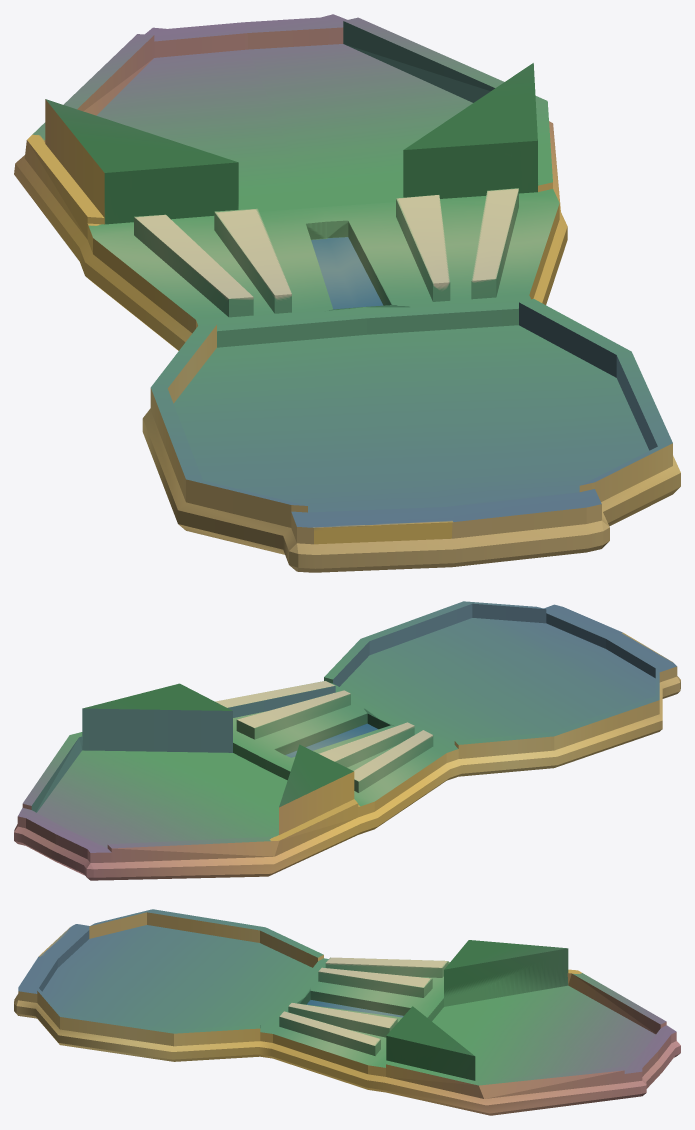
File: SM_PLATEFORM.FBX
3 renders of one model, top to bottom at view 1: azimuth 30°, elevation 25°; view 2: azimuth 150°, elevation 25°; view 3: azimuth 270°, elevation 25°, orthographic. The views are drawn at different scales.
Visible parts, largest first — view 1: plateform; view 2: plateform; view 3: plateform.
Part boxes in pixels (<box>): plateform: <box>14,14,680,572</box>; plateform: <box>14,601,680,880</box>; plateform: <box>14,909,680,1115</box>.
Bounding box in the file's own units: 158 × 21.46 × 245.
